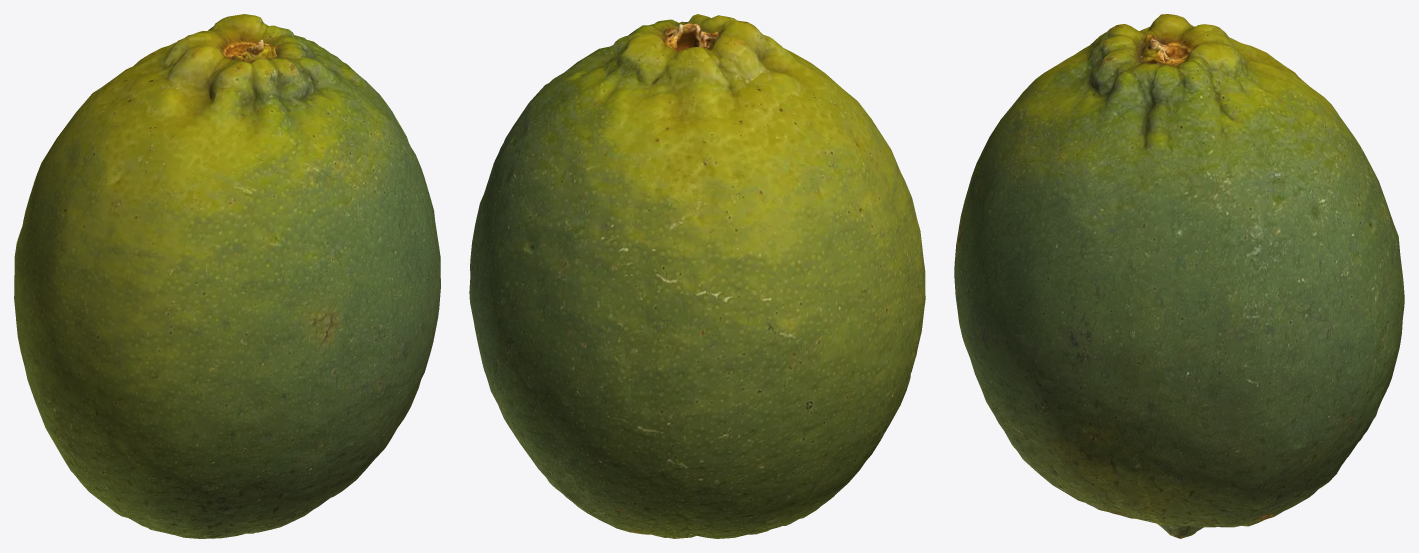
Rendered from lime.glb.
3 views of the same model, side by side, from view 1: azimuth 30°, elevation 25°; view 2: azimuth 150°, elevation 25°; view 3: azimuth 270°, elevation 25° (orthographic).
Parts seen in each view (by area): view 1: food_lime_01; view 2: food_lime_01; view 3: food_lime_01.
Part boxes in pixels (bbox=[...]): food_lime_01: bbox=[14, 14, 440, 538]; food_lime_01: bbox=[469, 14, 925, 538]; food_lime_01: bbox=[954, 14, 1404, 538].
Bounding box in the file's own units: 0.0601 × 0.0754 × 0.0613.
1 material, 1 textured.
